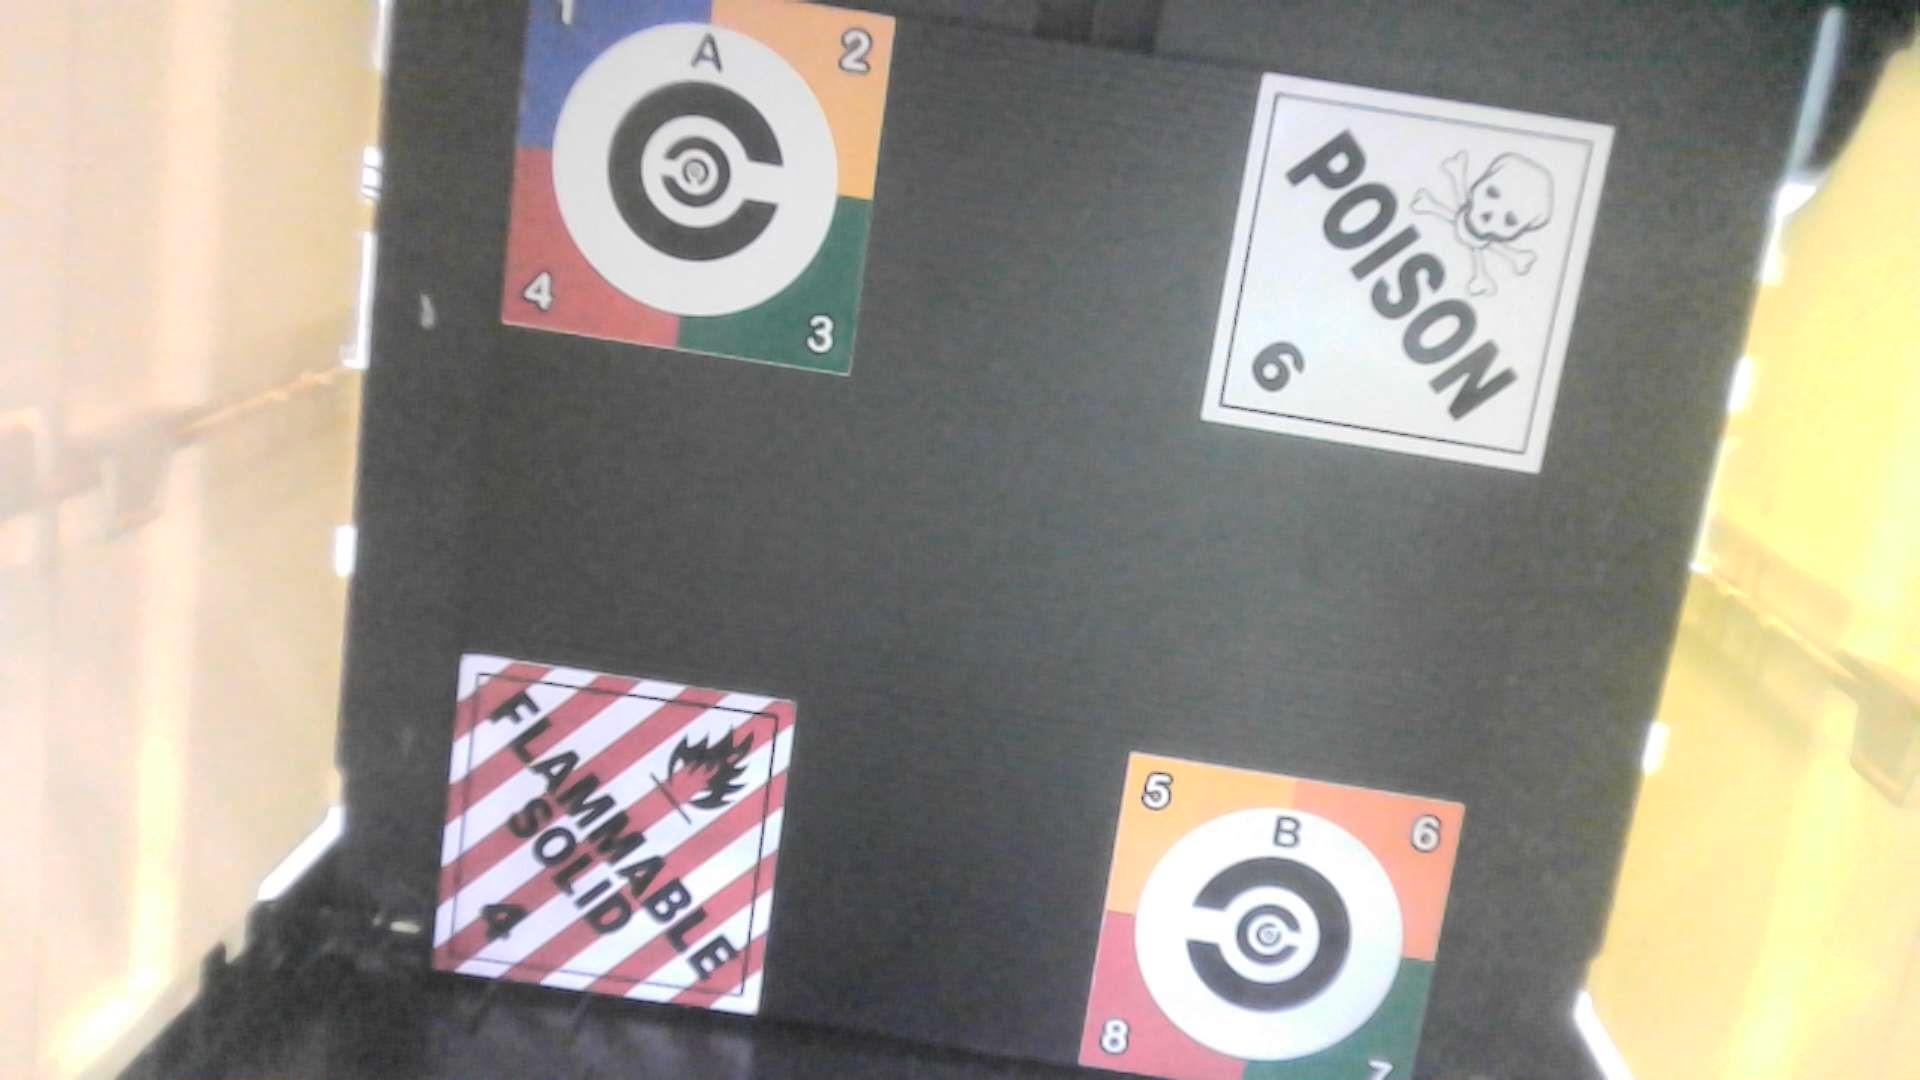flammable-solid: (407, 649, 806, 1014)
poison: (1199, 73, 1619, 477)
